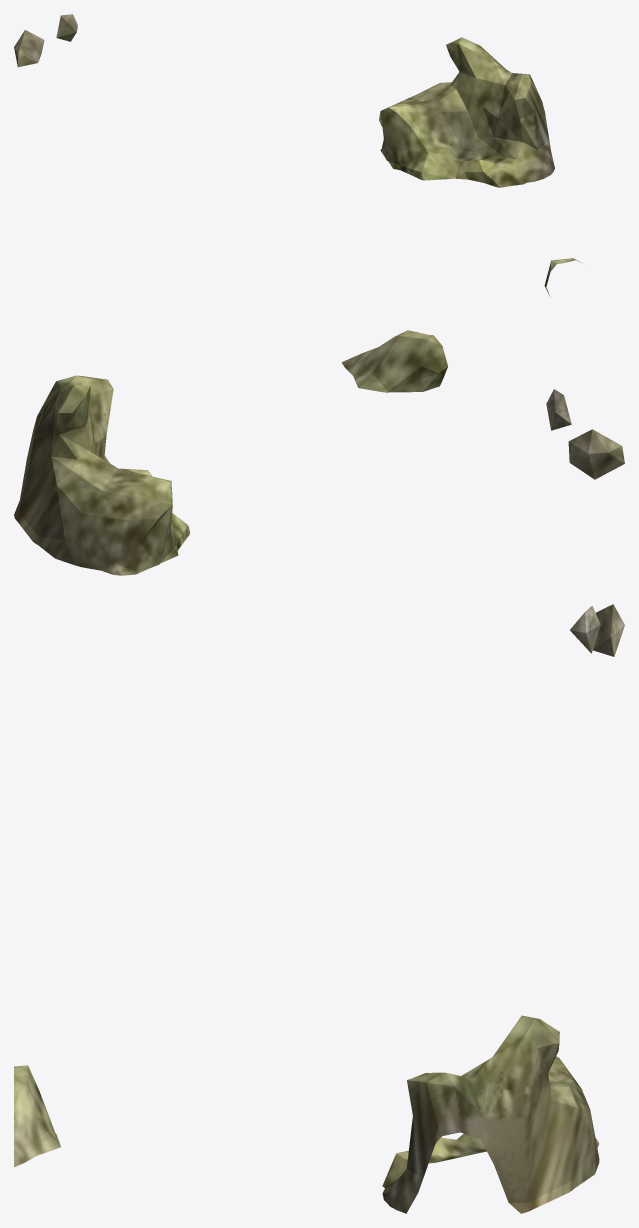
3 renders of one model, top to bottom at view 1: azimuth 30°, elevation 25°; view 2: azimuth 150°, elevation 25°; view 3: azimuth 270°, elevation 25°, orthographic. The views are drawn at different scales.
Bounding box in the file's own units: 5.52 × 2.36 × 4.26.
Materials: 1 (1 with a texture image).
